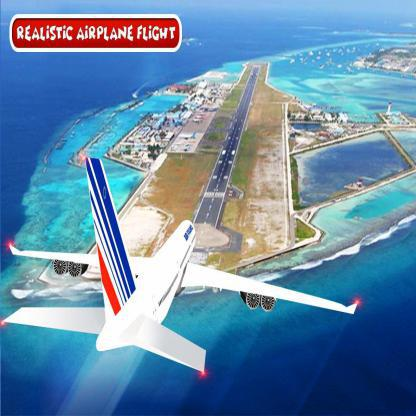CIV_Plane: (1, 155, 360, 385)
